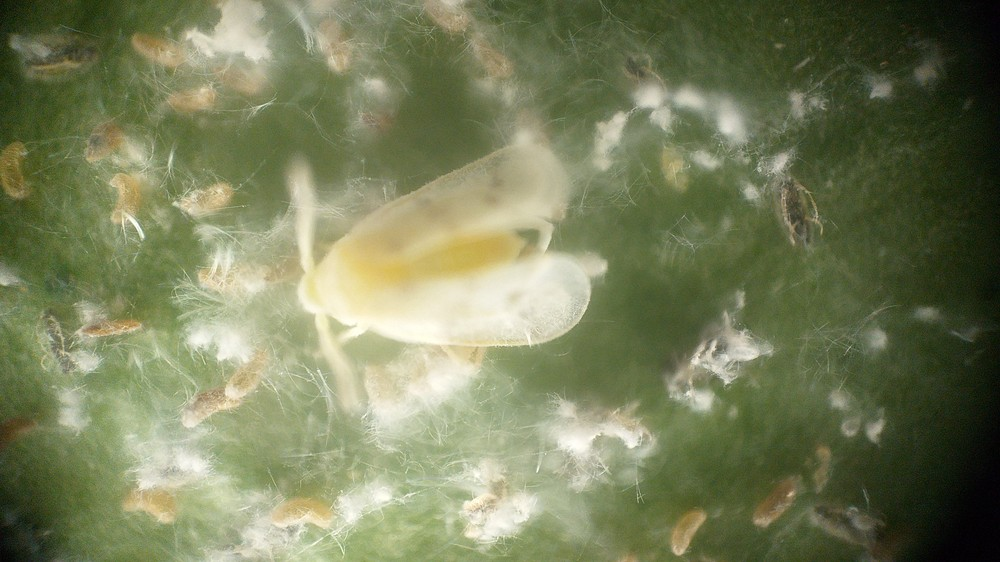Mosca Blanca: (252, 101, 607, 415)
